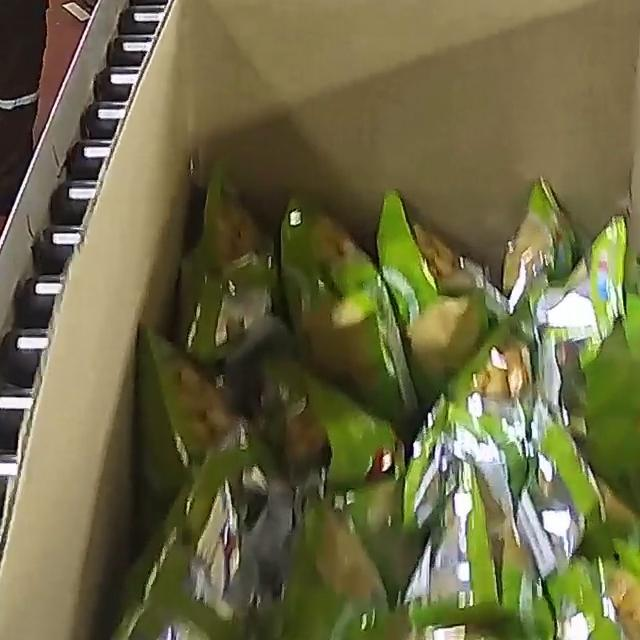yogurt: (102, 159, 640, 640)
